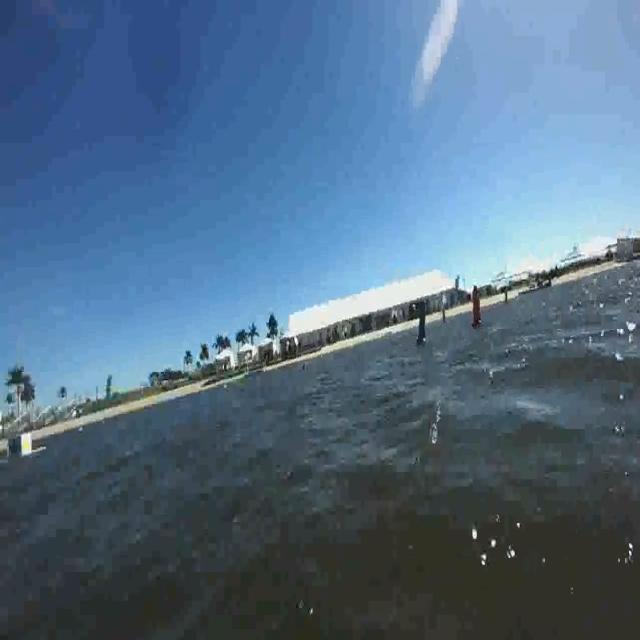green-column-buoy: (416, 302, 430, 347)
red-column-buoy: (468, 285, 483, 328)
